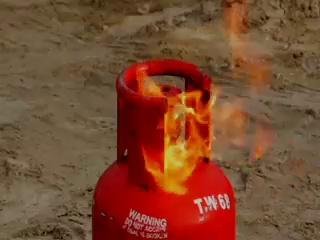Fire: (128, 8, 310, 198)
